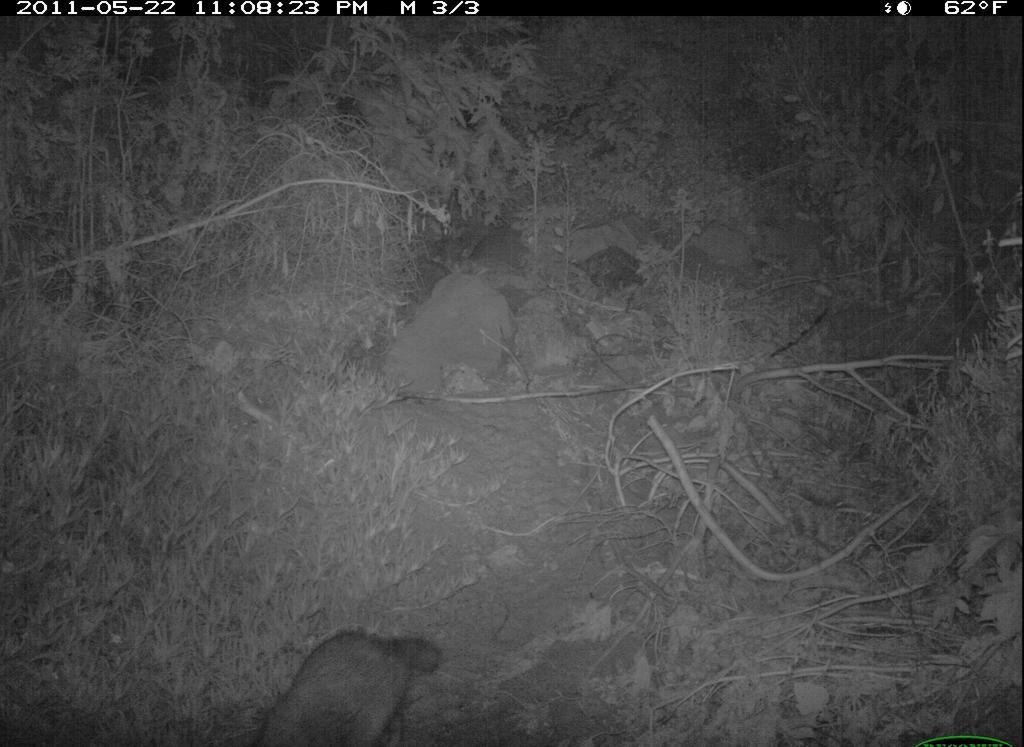raccoon: (249, 624, 447, 747)
